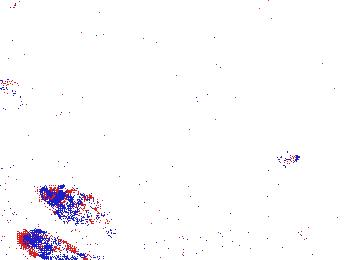X-ray fish: (47, 184, 114, 224)
red belly glassfish: (286, 149, 301, 164)
